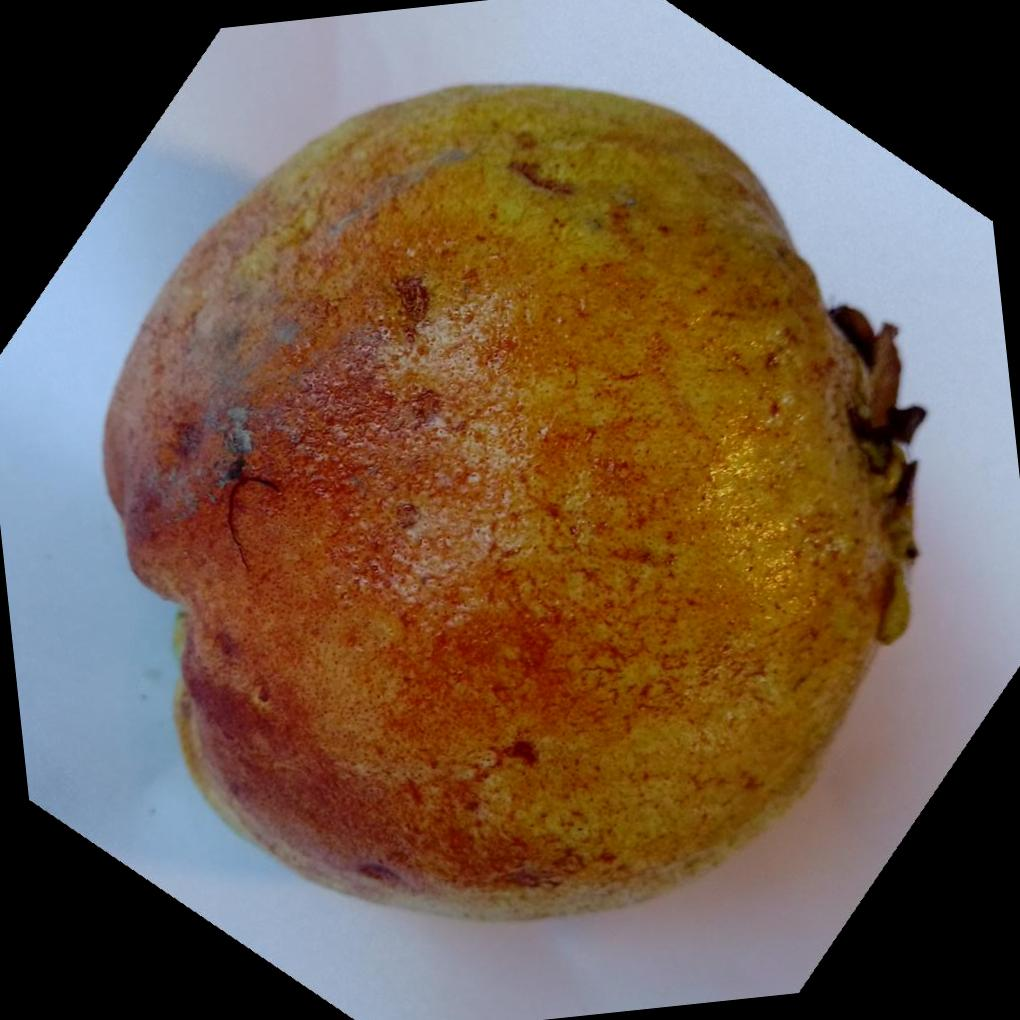FreshOrange: (94, 80, 923, 923)
